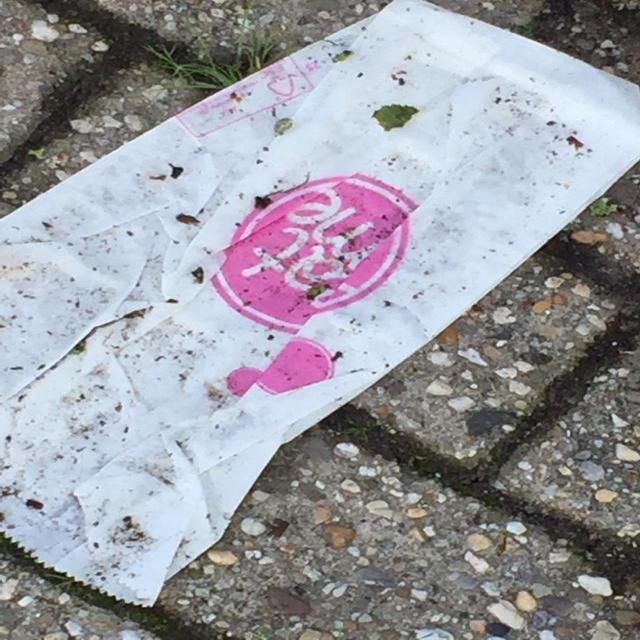Paper: (1, 2, 638, 610)
